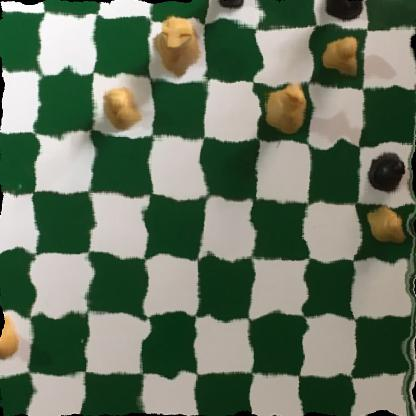black-king: (319, 0, 372, 29)
black-pawn: (364, 150, 407, 194)
black-rook: (211, 0, 257, 16)
white-king: (253, 78, 306, 141)
white-pawn: (93, 83, 142, 131), (362, 201, 411, 249), (318, 30, 361, 84), (0, 317, 21, 364)
white-rook: (152, 12, 201, 74)
